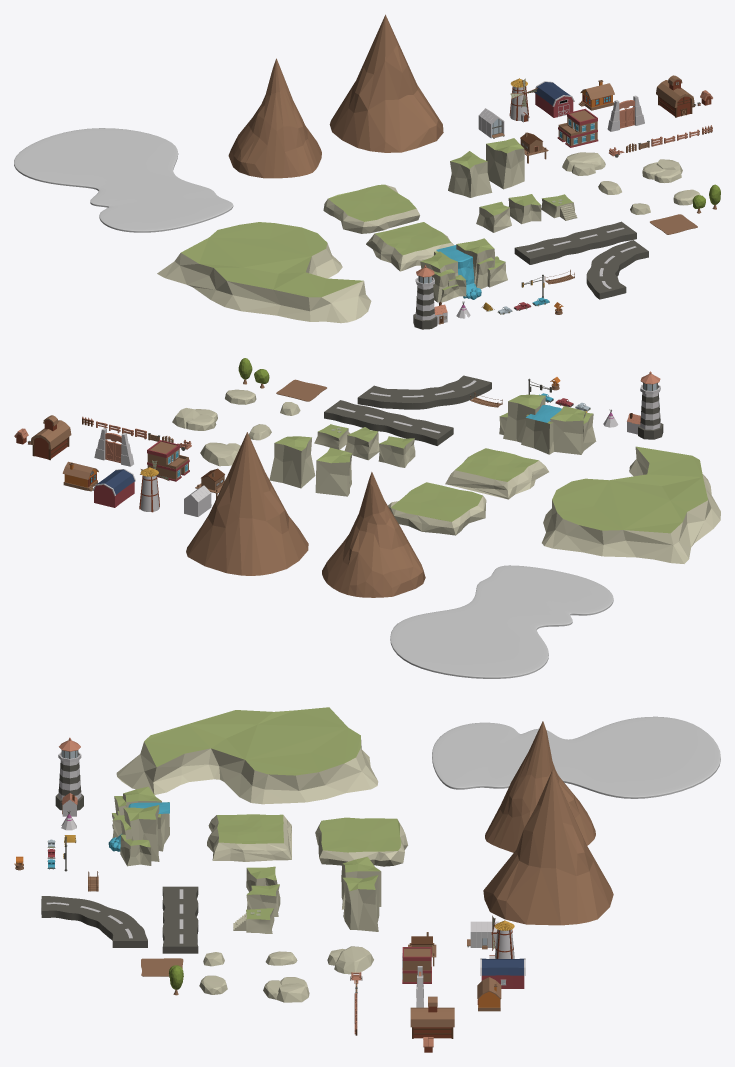
File: Low Poly Environment.fbx
3 views of the same model, one above another, from view 1: azimuth 30°, elevation 25°; view 2: azimuth 150°, elevation 25°; view 3: azimuth 270°, elevation 25° (orthographic). The views are drawn at different scales.
Parts seen in each view (by area): view 1: Cliff 1, Lake, Mountain 1, Mountain 2, Water Fall, Cliff 2, Cliff 3, Road 1, Road 2, Cliff 5, Cliff 4, Watch Tower (+13 smaller); view 2: Lake, Cliff 1, Mountain 1, Mountain 2, Water Fall, Cliff 2, Cliff 3, Road 2, Road 1, Cliff 5, Watch Tower, Cliff 4 (+13 smaller); view 3: Cliff 1, Lake, Mountain 1, Mountain 2, Cliff 2, Cliff 3, Water Fall, Road 2, Road 1, Cliff 5, Watch Tower, Warehouse01 (+12 smaller).
Boxes of the visible parts, x1,y1,x2,y2 form: Cliff 1: [157, 222, 371, 323]; Lake: [14, 128, 233, 232]; Mountain 1: [329, 14, 443, 152]; Mountain 2: [228, 58, 321, 178]; Water Fall: [420, 238, 507, 302]; Cliff 2: [323, 184, 419, 233]; Cliff 3: [366, 222, 453, 271]; Road 1: [514, 221, 636, 264]; Road 2: [586, 240, 648, 299]; Cliff 5: [486, 138, 524, 189]; Cliff 4: [448, 151, 492, 197]; Watch Tower: [413, 265, 447, 329]; Lake: [390, 565, 613, 678]; Cliff 1: [542, 446, 720, 563]; Mountain 1: [186, 432, 308, 575]; Mountain 2: [322, 472, 425, 597]; Water Fall: [499, 394, 596, 454]; Cliff 2: [388, 482, 486, 535]; Cliff 3: [445, 448, 548, 499]; Road 2: [357, 375, 491, 409]; Road 1: [324, 400, 453, 445]; Cliff 5: [269, 436, 315, 488]; Watch Tower: [627, 371, 663, 439]; Cliff 4: [315, 447, 352, 496]; Cliff 1: [116, 707, 378, 804]; Lake: [432, 716, 720, 798]; Mountain 1: [483, 769, 613, 925]; Mountain 2: [485, 721, 595, 852]; Cliff 2: [315, 817, 407, 866]; Cliff 3: [207, 814, 291, 861]; Water Fall: [108, 786, 169, 866]; Road 2: [41, 896, 147, 947]; Road 1: [162, 886, 198, 953]; Cliff 5: [342, 875, 379, 931]; Watch Tower: [55, 737, 83, 816]; Warehouse01: [410, 996, 454, 1038].
Size of the model in its own units: 222 by 44.08 by 199.
